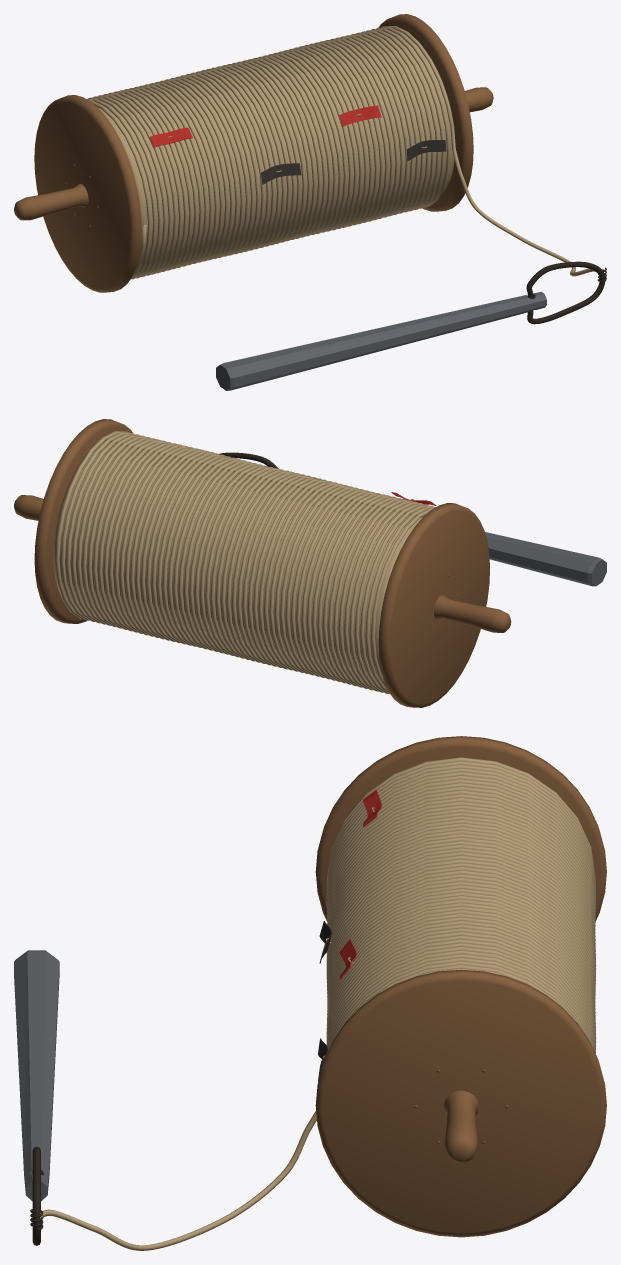
The model's file is NEW684_SoundingLine_LOD1_v001.glb.
The picture shows the model from 3 angles, top to bottom: view 1: azimuth 30°, elevation 25°; view 2: azimuth 150°, elevation 25°; view 3: azimuth 270°, elevation 25°; orthographic projection. The views are drawn at different scales.
Visible parts, largest first — view 1: Continuous_marked_sounding_line, Concealed_winding_bulk, Wood_flange_-1, Tapered_octagonal_sounding_lead, Wood_flange_1, Reel_shaft_handles, Served_lead_strop, Cloth_depth_marker_02, Cloth_depth_marker_01; view 2: Continuous_marked_sounding_line, Concealed_winding_bulk, Wood_flange_-1, Wood_flange_1, Tapered_octagonal_sounding_lead, Reel_shaft_handles; view 3: Wood_flange_1, Continuous_marked_sounding_line, Wood_flange_-1, Tapered_octagonal_sounding_lead, Reel_shaft_handles, Served_lead_strop.
Boxes of the visible parts, bbox=[...] form: Continuous_marked_sounding_line: bbox=[87, 26, 596, 279]; Concealed_winding_bulk: bbox=[98, 35, 454, 260]; Wood_flange_-1: bbox=[34, 95, 141, 292]; Tapered_octagonal_sounding_lead: bbox=[216, 291, 546, 390]; Wood_flange_1: bbox=[378, 14, 473, 211]; Reel_shaft_handles: bbox=[14, 87, 493, 220]; Served_lead_strop: bbox=[526, 261, 605, 324]; Cloth_depth_marker_02: bbox=[339, 105, 381, 126]; Cloth_depth_marker_01: bbox=[261, 163, 301, 184]; Continuous_marked_sounding_line: bbox=[55, 431, 435, 694]; Concealed_winding_bulk: bbox=[53, 441, 422, 674]; Wood_flange_-1: bbox=[378, 503, 489, 707]; Wood_flange_1: bbox=[34, 419, 132, 623]; Tapered_octagonal_sounding_lead: bbox=[485, 532, 606, 586]; Reel_shaft_handles: bbox=[14, 495, 511, 632]; Wood_flange_1: bbox=[315, 969, 606, 1237]; Continuous_marked_sounding_line: bbox=[40, 757, 596, 1250]; Wood_flange_-1: bbox=[315, 736, 606, 921]; Tapered_octagonal_sounding_lead: bbox=[14, 950, 59, 1201]; Reel_shaft_handles: bbox=[443, 1090, 478, 1163]; Served_lead_strop: bbox=[32, 1146, 40, 1245].
Bounding box in the file's own units: 0.8 × 0.3023 × 0.6006.
